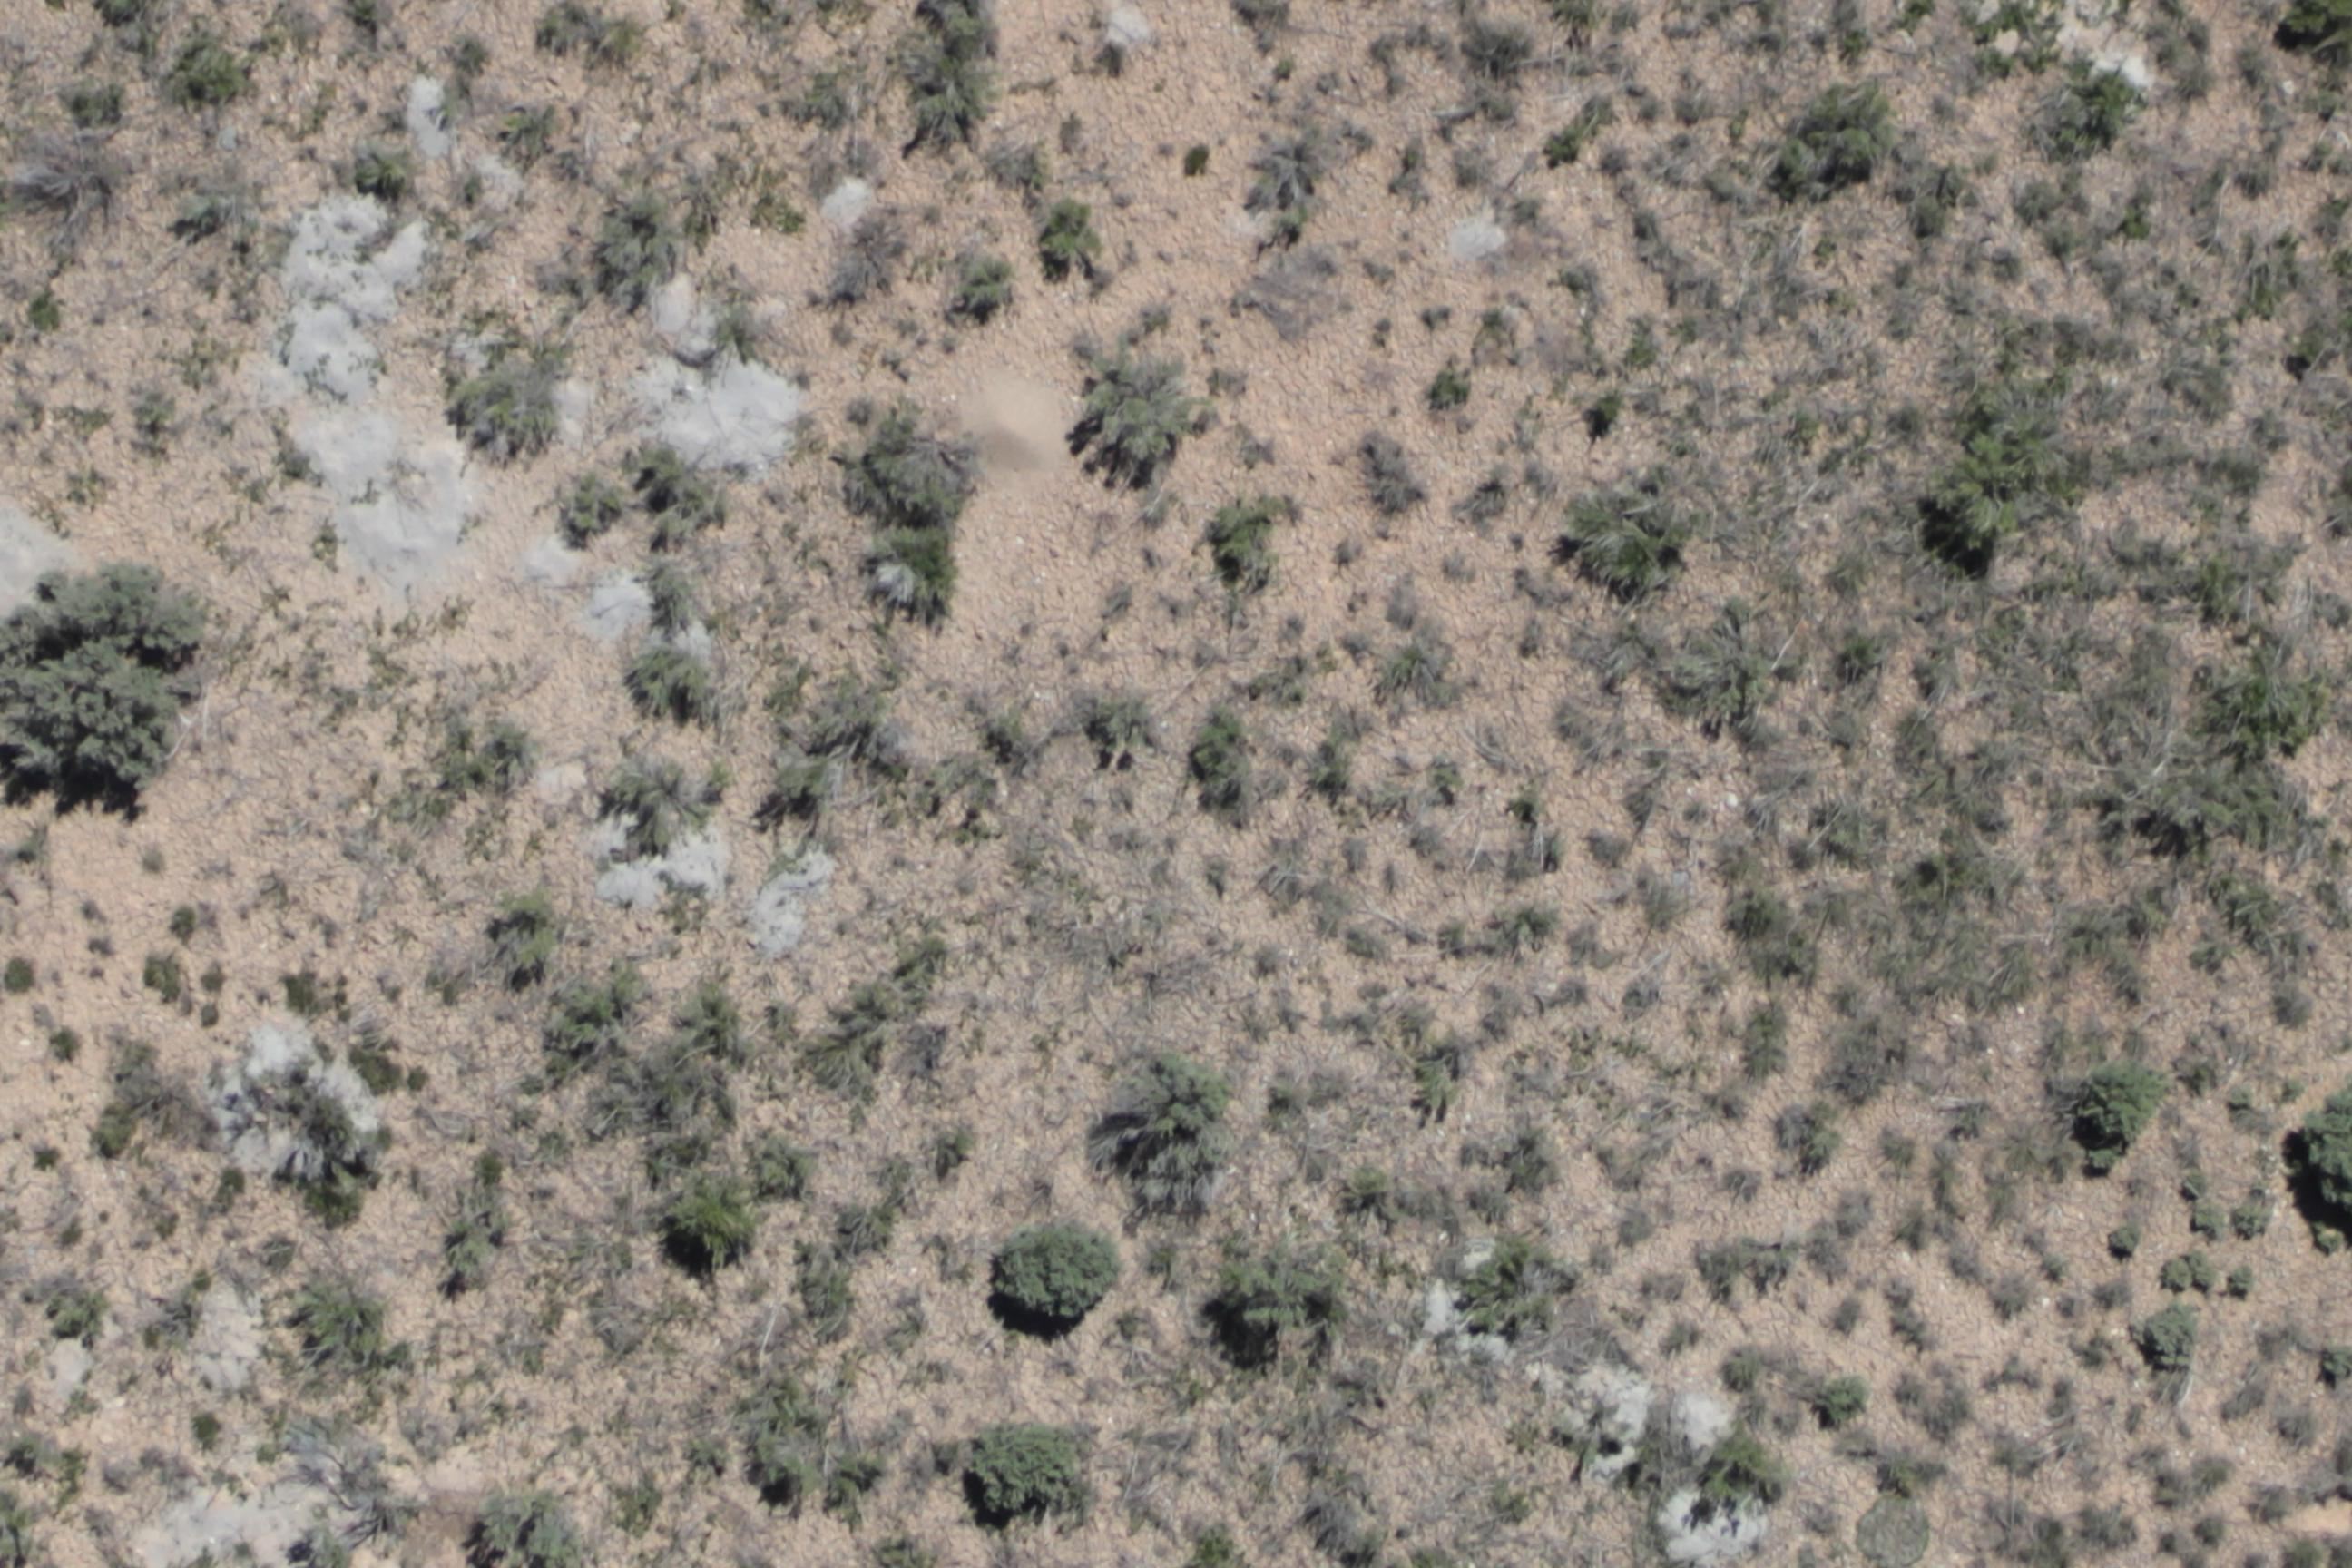burrow: (931, 350, 1076, 486)
